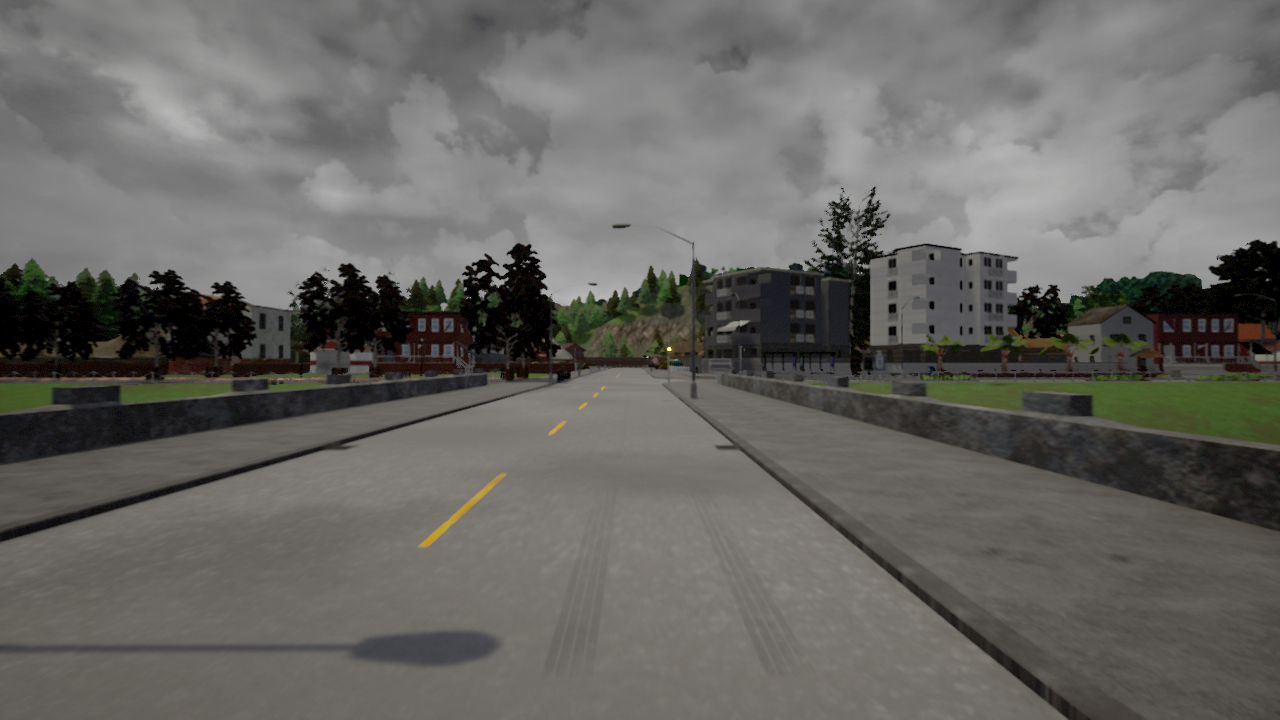yellow: (666, 343, 672, 356)
